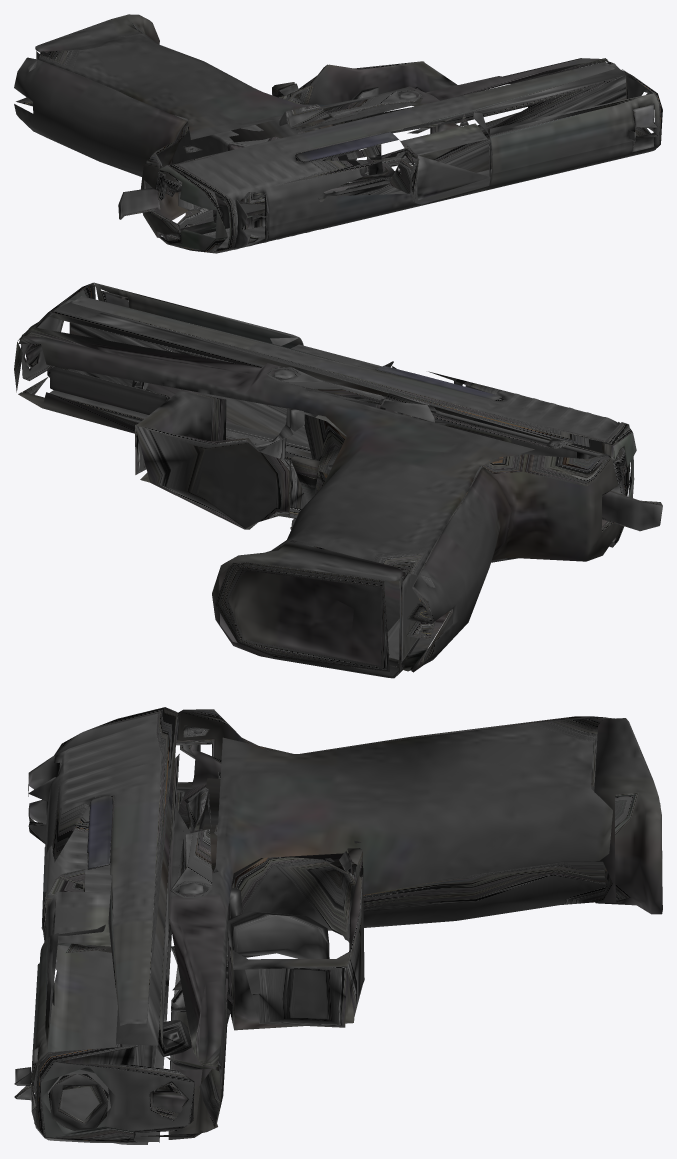
The picture shows the model from 3 angles, top to bottom: view 1: azimuth 30°, elevation 25°; view 2: azimuth 150°, elevation 25°; view 3: azimuth 270°, elevation 25°; orthographic projection. The views are drawn at different scales.
Parts seen in each view (by area): view 1: w_p2000; view 2: w_p2000; view 3: w_p2000.
Part boxes in pixels (box(x1,y1,x2,y2)): w_p2000: box(14, 14, 662, 253); w_p2000: box(14, 282, 662, 678); w_p2000: box(14, 707, 662, 1144).
Bounding box in the file's own units: 0.3039 × 0.0585 × 0.2242.
Materials: 1 (1 with a texture image).
